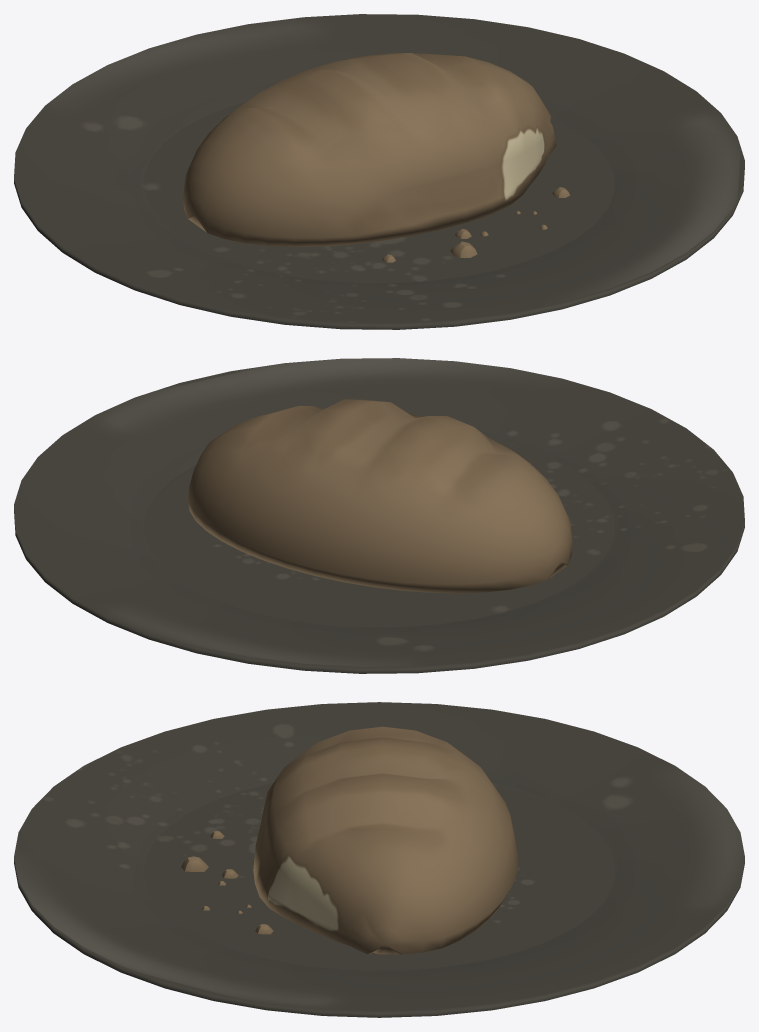
The model's file is Plate.fbx.
3 renders of one model, top to bottom at view 1: azimuth 30°, elevation 25°; view 2: azimuth 150°, elevation 25°; view 3: azimuth 270°, elevation 25°, orthographic.
Visible parts, largest first — view 1: pSphere4; view 2: pSphere4; view 3: pSphere4.
Part boxes in pixels (x1=…): pSphere4: x1=14, y1=14, x2=744, y2=329; pSphere4: x1=14, y1=358, x2=744, y2=673; pSphere4: x1=14, y1=702, x2=744, y2=1017.
Bounding box in the file's own units: 184 × 38.06 × 184.
Materials: 1 (1 with a texture image).
